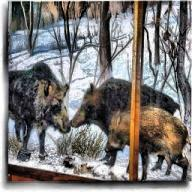boar: (69, 76, 181, 168), (104, 105, 190, 181), (8, 62, 70, 156)
